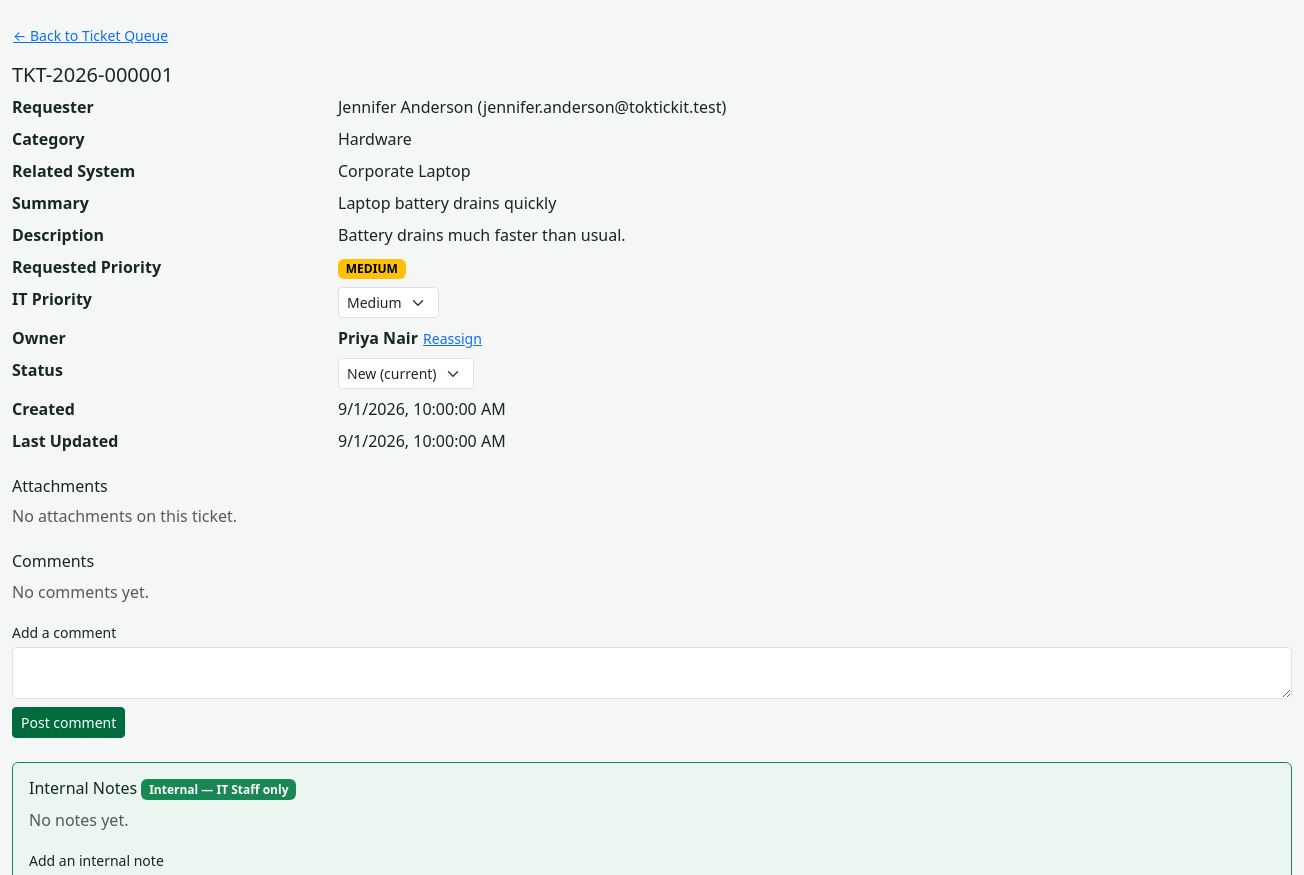
Scenario: StaffTicketDetail › Ownership control › reassigns to a different IT Staff member chosen from the dropdown
Expected: the text "Priya Nair" is shown, x1=338 y1=327 x2=418 y2=349
Click the button "Reassign" at (452, 339), box x1=422 y1=327 x2=483 y2=350
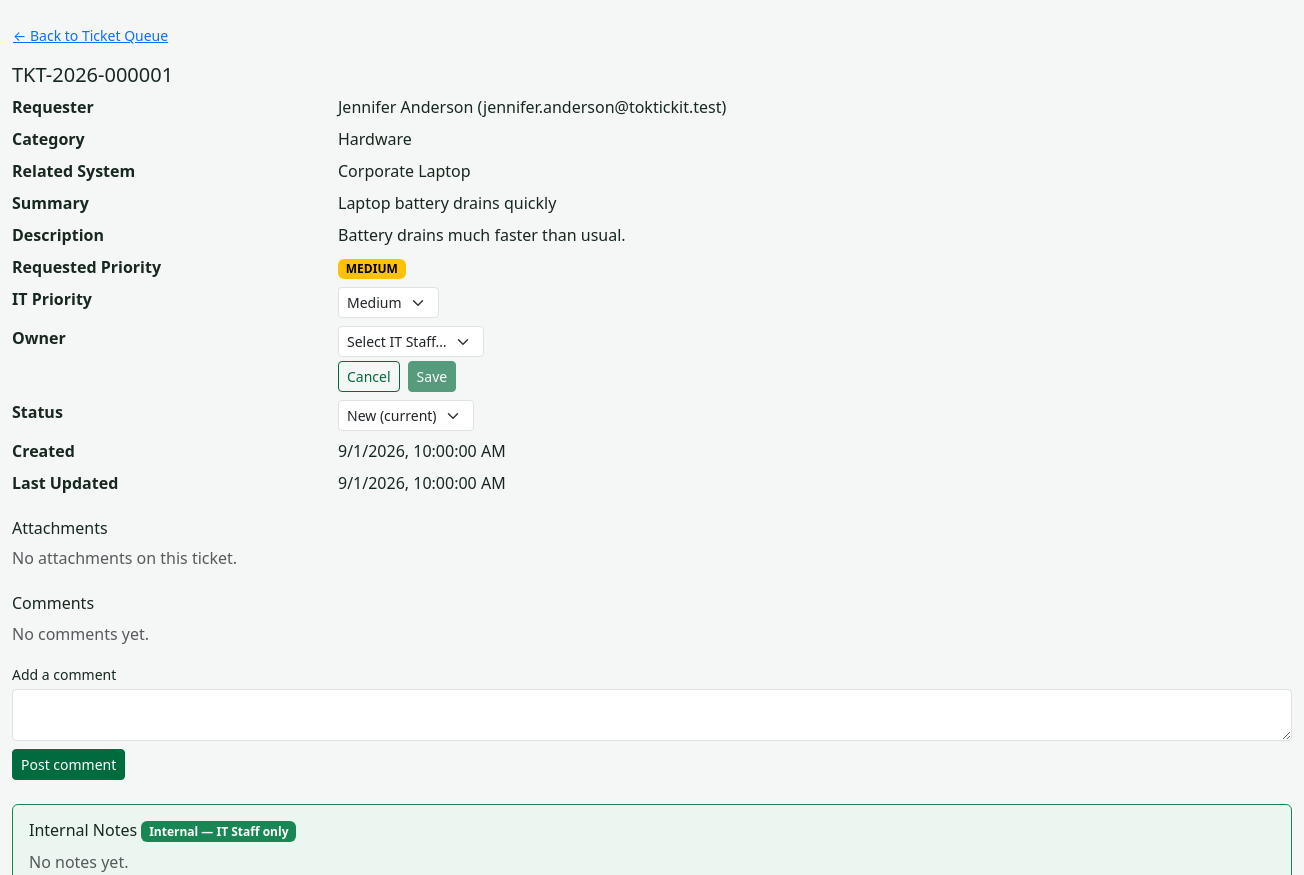
Select "Marcus Chen" in the dropdown named "Reassign to" at (411, 342), box x1=338 y1=326 x2=484 y2=357
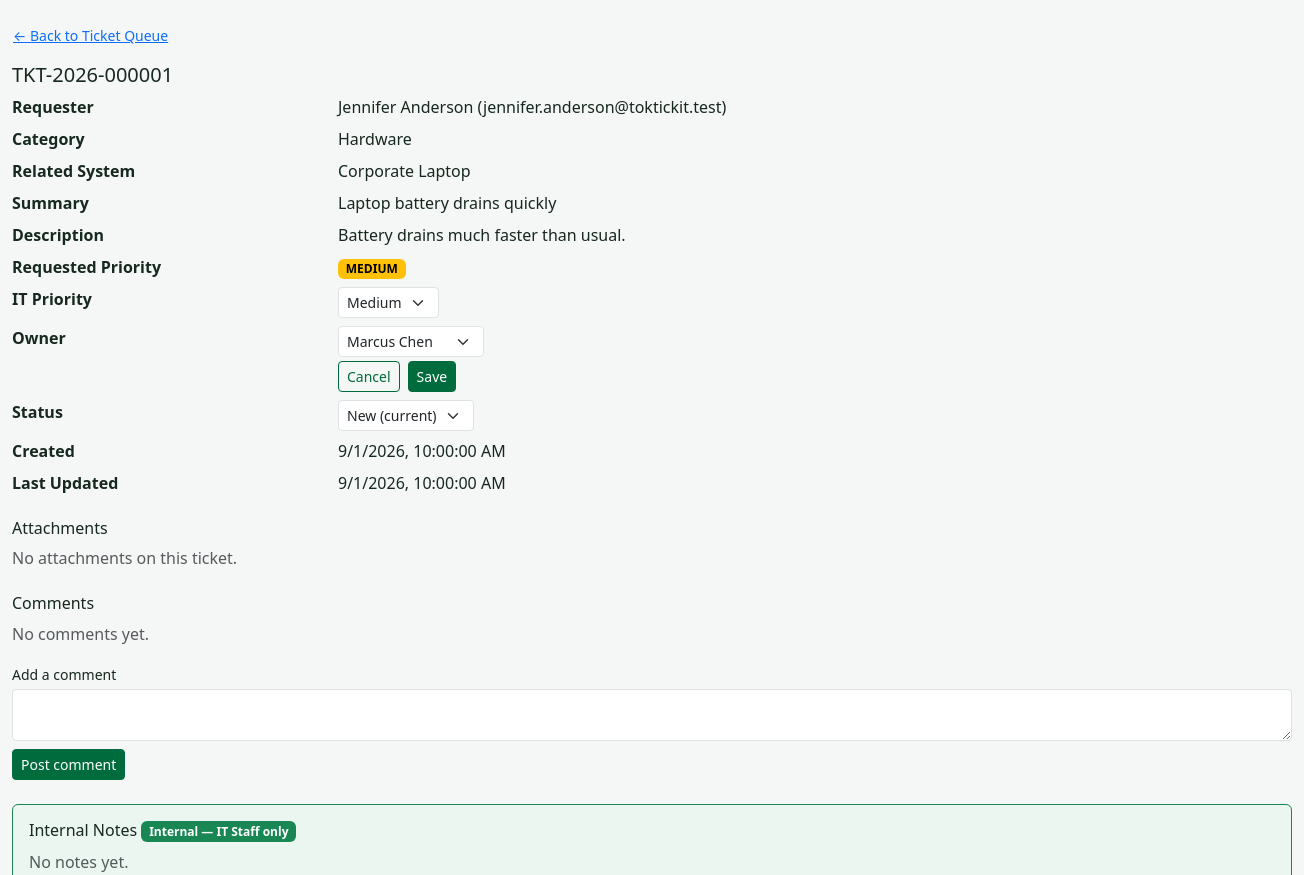
Click the button "Save" at (432, 377), box x1=408 y1=361 x2=456 y2=392
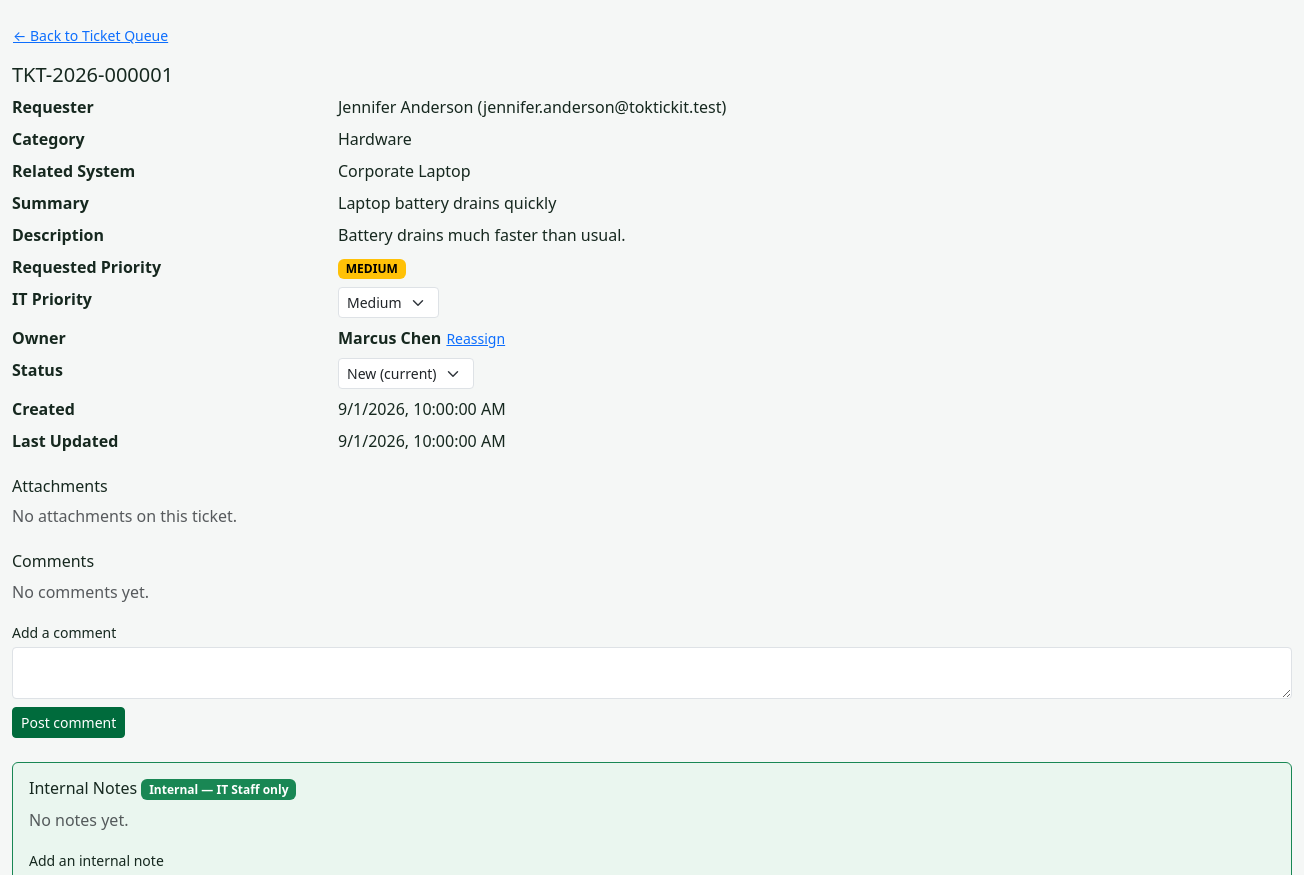
Expected: the text "Marcus Chen" is shown, x1=338 y1=327 x2=441 y2=349
